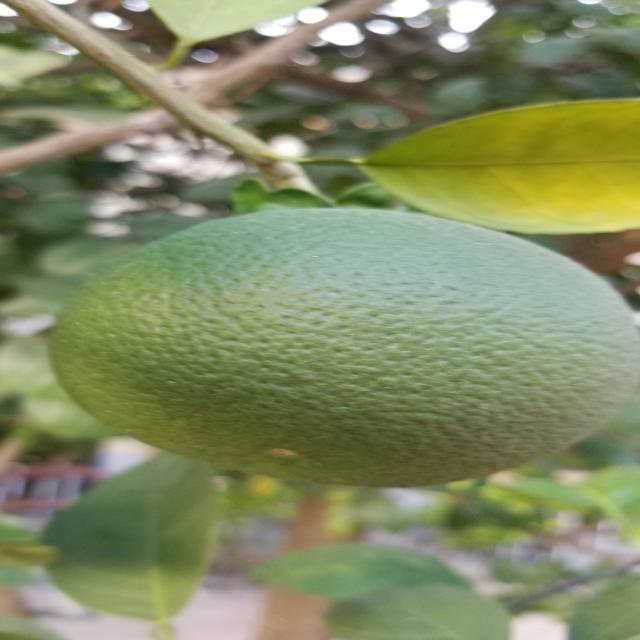Unripe: (26, 200, 634, 489)
